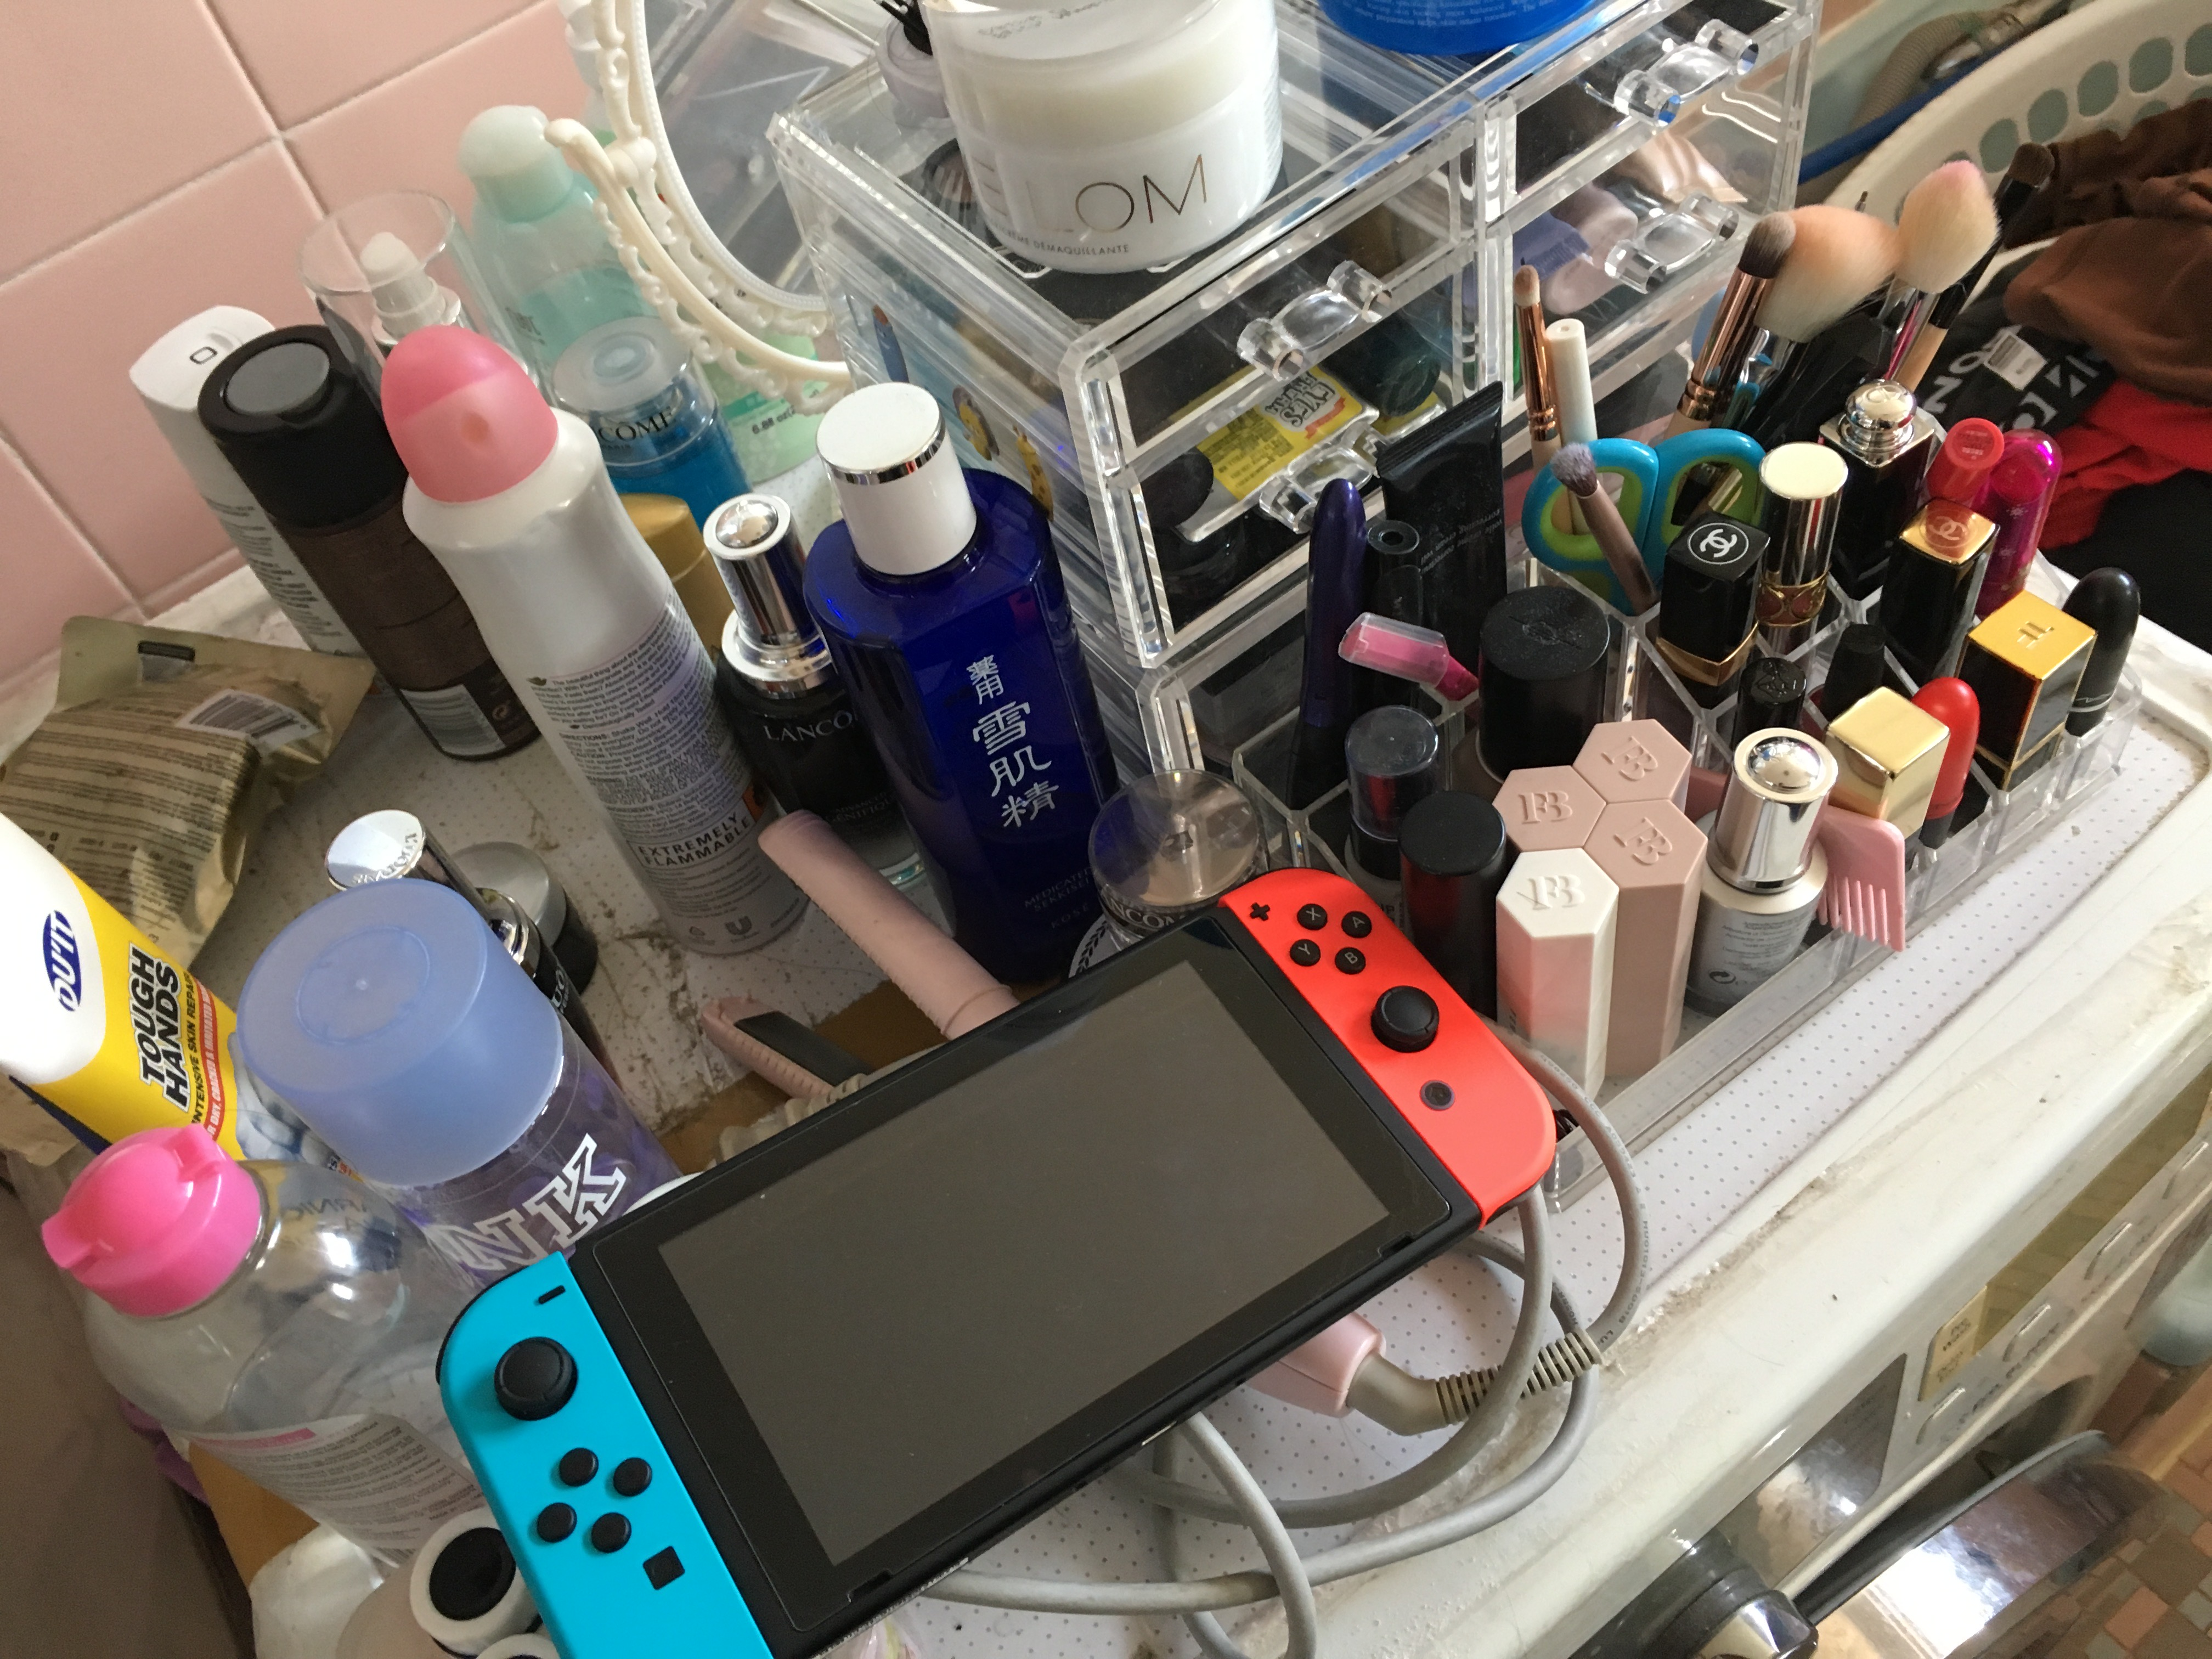NintendoSwitch: (420, 859, 1571, 1659)
